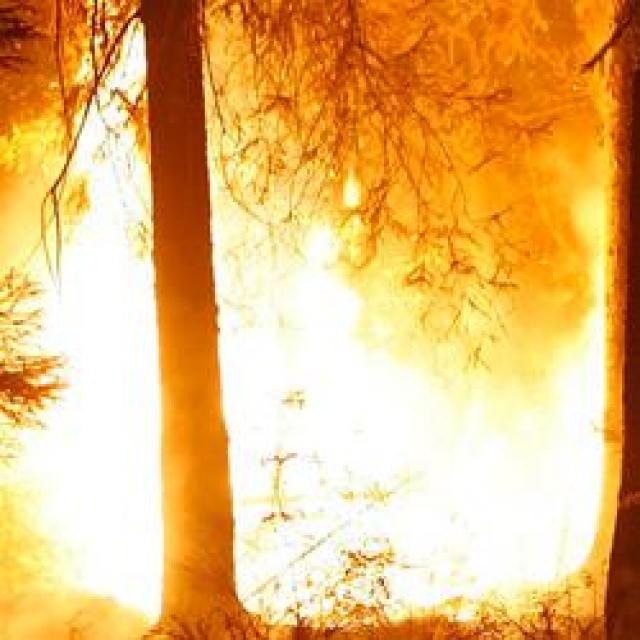fire: (242, 204, 596, 622), (4, 58, 151, 638)
